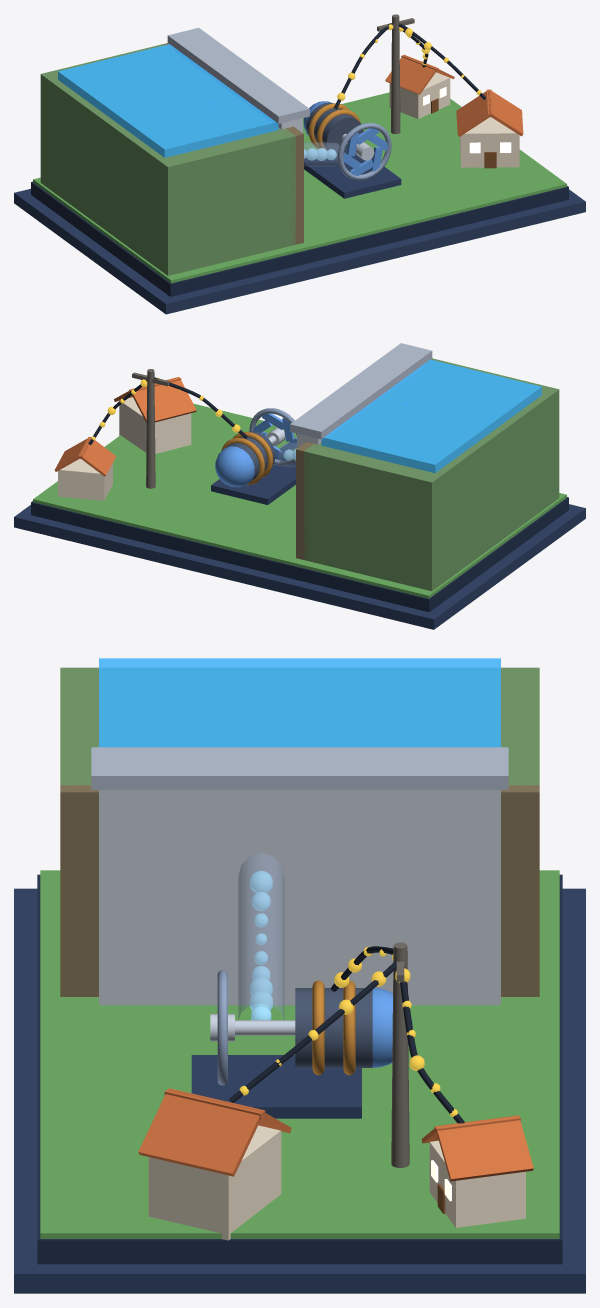
Rendered from energi-plta.glb.
3 renders of one model, top to bottom at view 1: azimuth 30°, elevation 25°; view 2: azimuth 150°, elevation 25°; view 3: azimuth 270°, elevation 25°, orthographic. The views are drawn at different scales.
Size of the model in its own units: 5.9 by 2.02 by 3.7.
